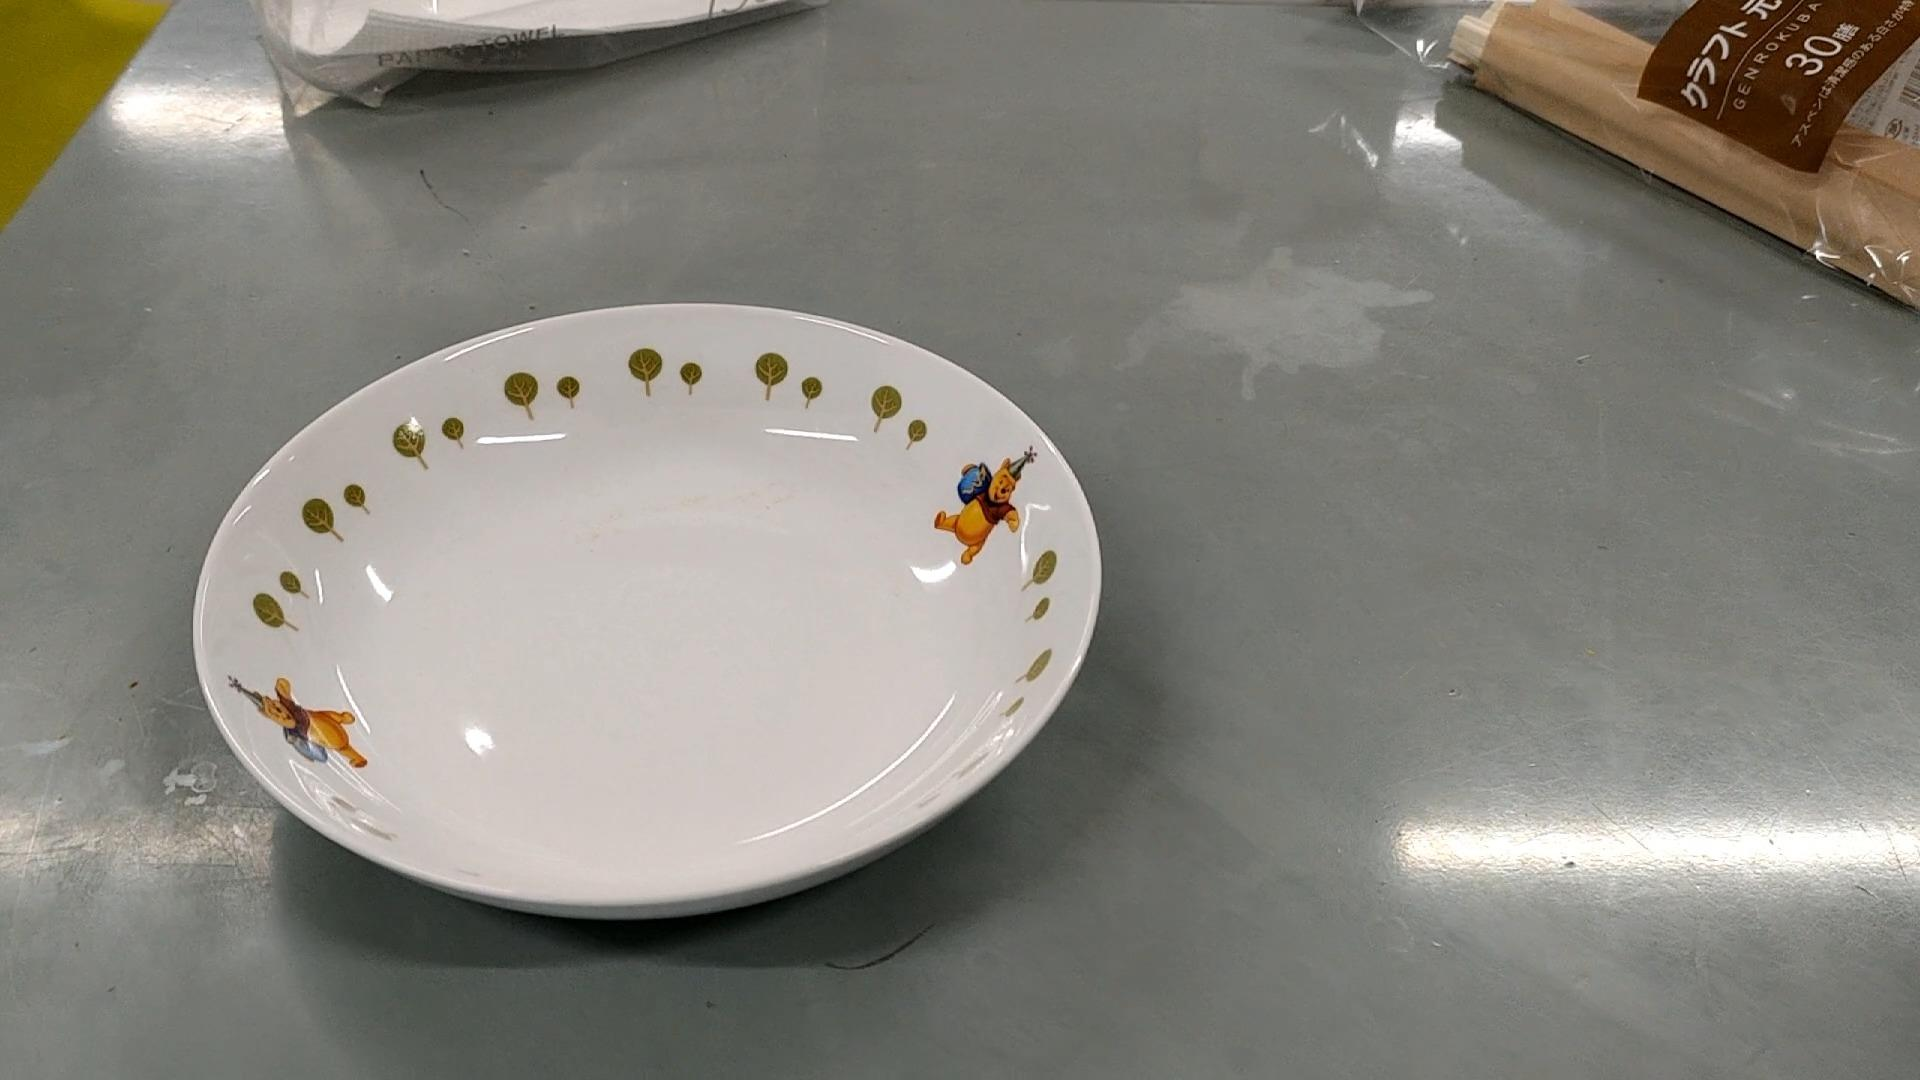plate: (195, 303, 1104, 922)
